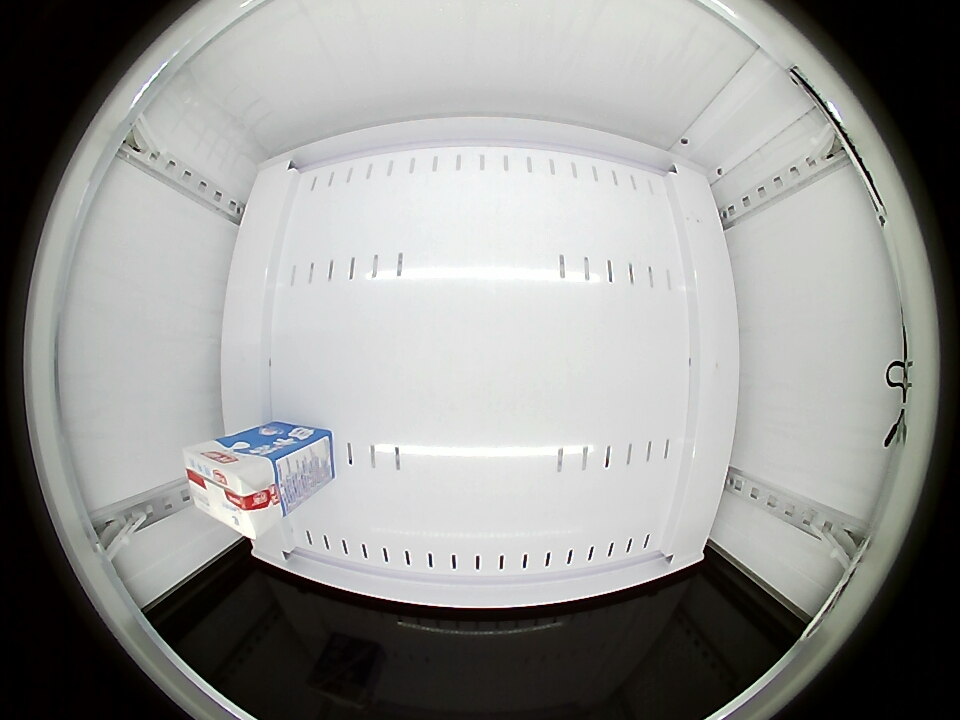niunai: (182, 439, 282, 539)
